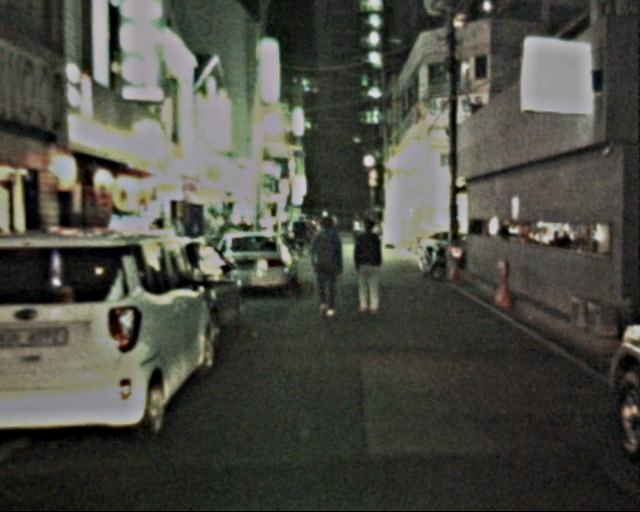person: (305, 217, 347, 316), (350, 218, 389, 314)
